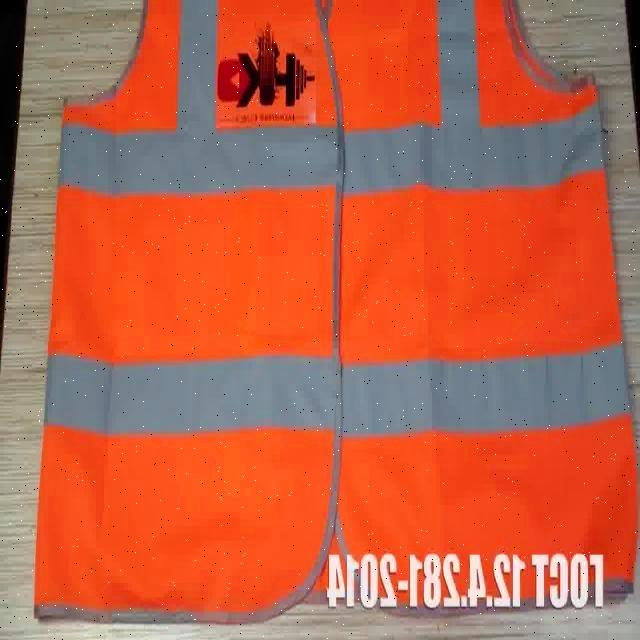Vest: (77, 92, 622, 634)
